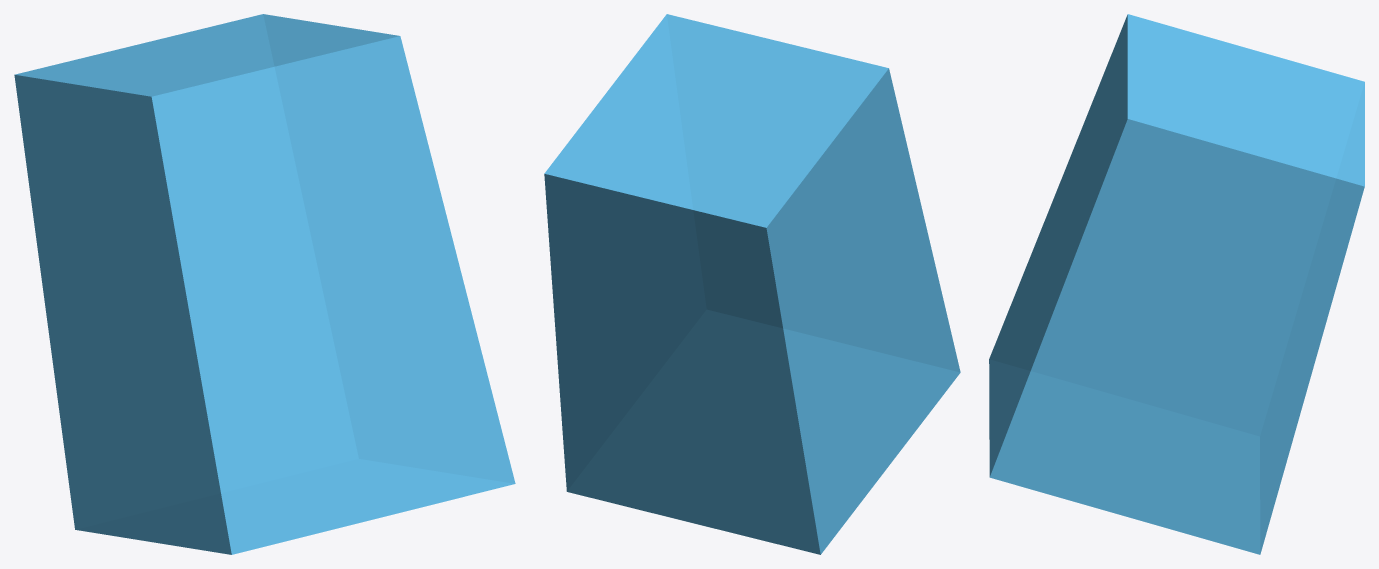
Rendered from Event_421127236_HBrechit_16.fbx.
The picture shows the model from 3 angles, left to right: view 1: azimuth 30°, elevation 25°; view 2: azimuth 150°, elevation 25°; view 3: azimuth 270°, elevation 25°; orthographic projection. The views are drawn at different scales.
Visible parts, largest first — view 1: Model; view 2: Model; view 3: Model.
Boxes of the visible parts, x1,y1,x2,y2 form: Model: [14, 14, 515, 554]; Model: [544, 14, 960, 554]; Model: [989, 14, 1364, 554].
Bounding box in the file's own units: 0.4579 × 0.7534 × 0.6071.
